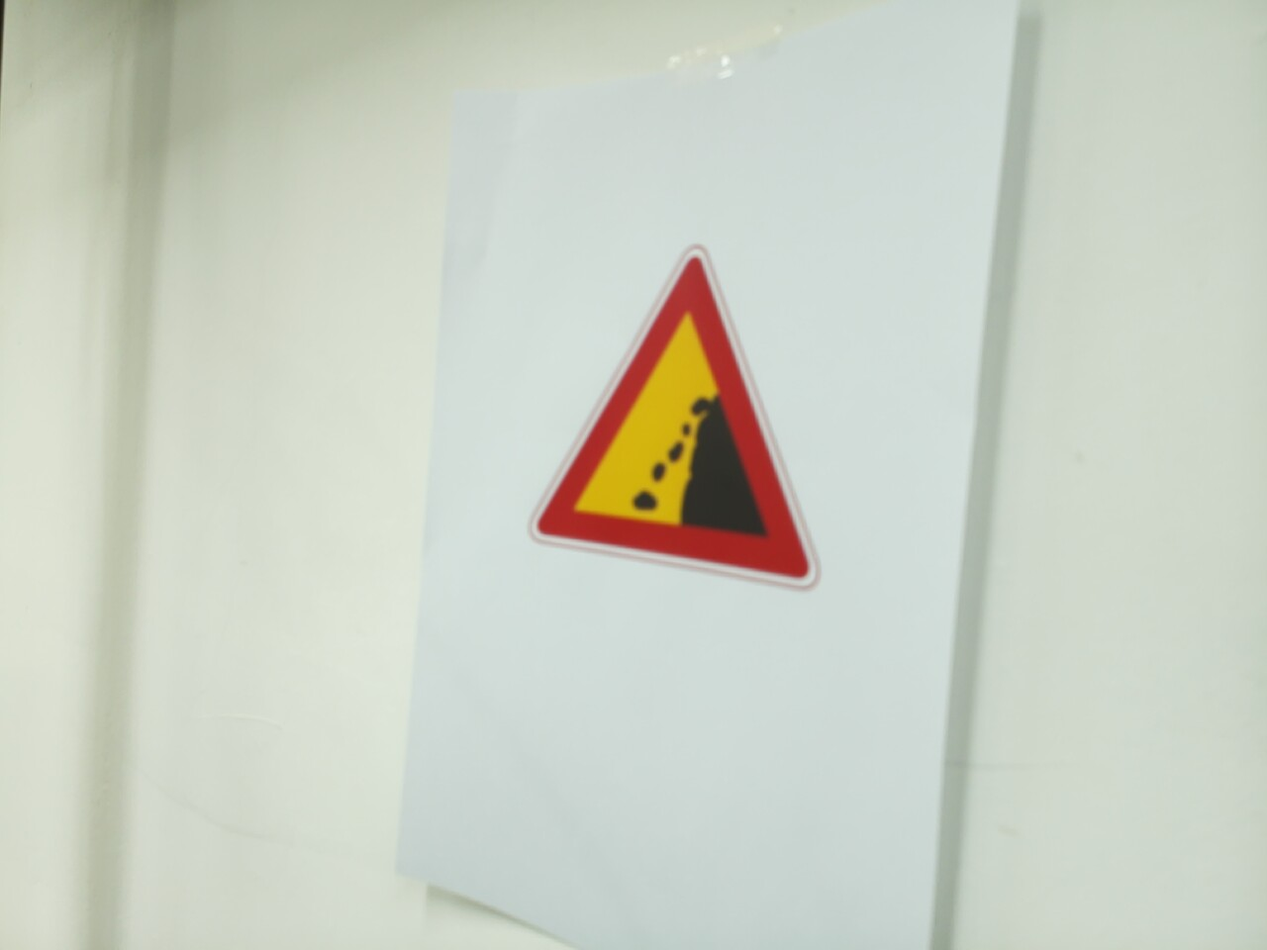falling_rocks: (529, 247, 818, 588)
